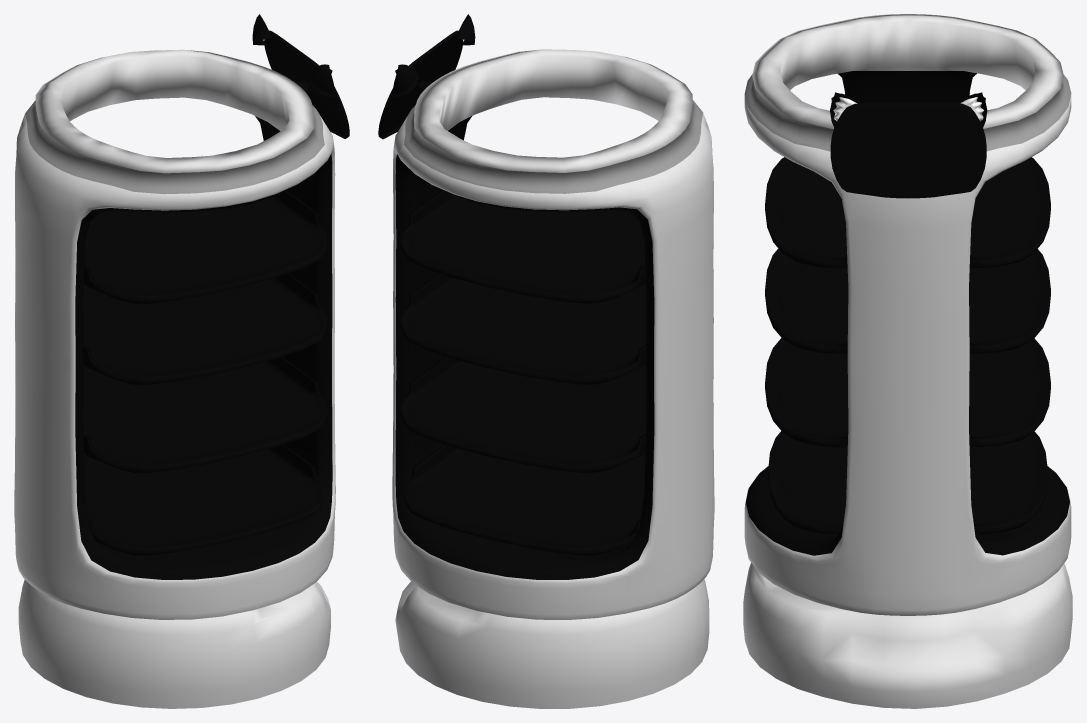
File: cat-transformed.glb
3 views of the same model, side by side, from view 1: azimuth 30°, elevation 25°; view 2: azimuth 150°, elevation 25°; view 3: azimuth 270°, elevation 25° (orthographic). The views are drawn at different scales.
Visible parts, largest first — view 1: Cat Cylinder, Cat Base, Face; view 2: Cat Cylinder, Cat Base, Face; view 3: Cat Cylinder, Cat Base, Face.
Boxes of the visible parts, x1=… form: Cat Cylinder: x1=14, y1=49, x2=335, y2=619; Cat Base: x1=18, y1=579, x2=330, y2=708; Face: x1=252, y1=14, x2=349, y2=138; Cat Cylinder: x1=392, y1=49, x2=714, y2=619; Cat Base: x1=395, y1=579, x2=709, y2=708; Face: x1=378, y1=14, x2=475, y2=139; Cat Cylinder: x1=744, y1=14, x2=1071, y2=615; Cat Base: x1=743, y1=562, x2=1072, y2=708; Face: x1=830, y1=92, x2=987, y2=198.
Size of the model in its own units: 1.9 by 3.64 by 1.79.
Materials: 5 (1 with a texture image).
